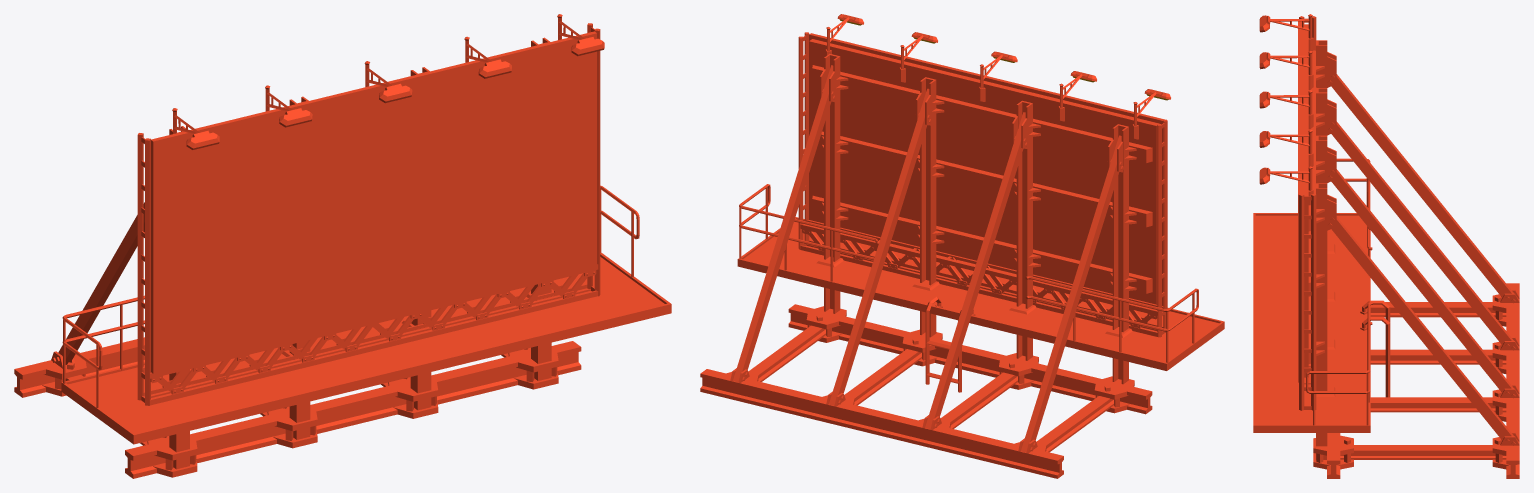
The model's file is SM_Billboard_D_City.fbx.
The picture shows the model from 3 angles, left to right: view 1: azimuth 30°, elevation 25°; view 2: azimuth 150°, elevation 25°; view 3: azimuth 270°, elevation 25°; orthographic projection. The views are drawn at different scales.
Parts seen in each view (by area): view 1: SM_Billboard_D_City; view 2: SM_Billboard_D_City; view 3: SM_Billboard_D_City.
Part boxes in pixels (left/top/right/bottom): SM_Billboard_D_City: left=14, top=14, right=671, bottom=478; SM_Billboard_D_City: left=700, top=14, right=1224, bottom=478; SM_Billboard_D_City: left=1253, top=14, right=1519, bottom=478.
Bounding box in the file's own units: 6.09 × 3.99 × 3.21.
